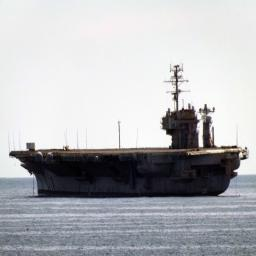Portanaves: (9, 60, 249, 201)
